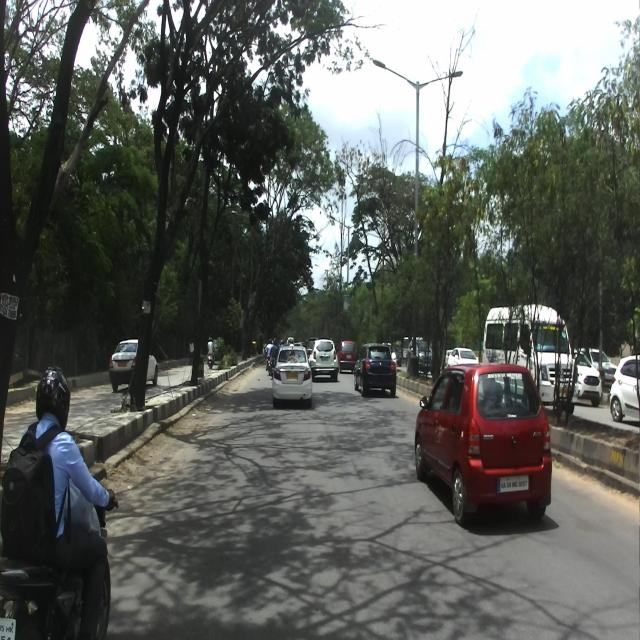Car_Honda: (272, 342, 312, 408)
Car_Maruti-Suzuki: (414, 362, 552, 525)
